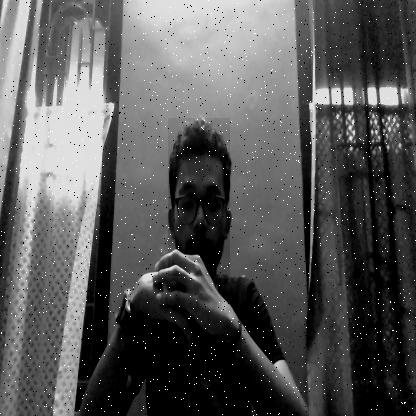Normal: (168, 118, 230, 276)
